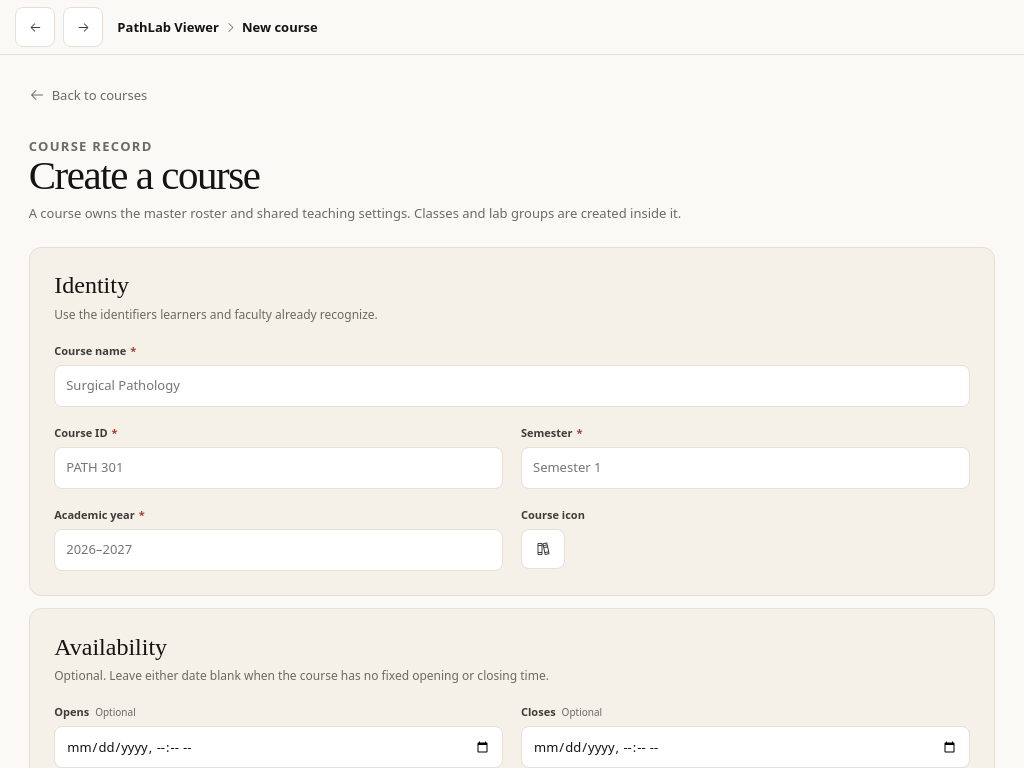
Test case: makes course identity required while keeping availability optional
Click the button named "Course icon: General": (543, 549) [521,529,565,569]
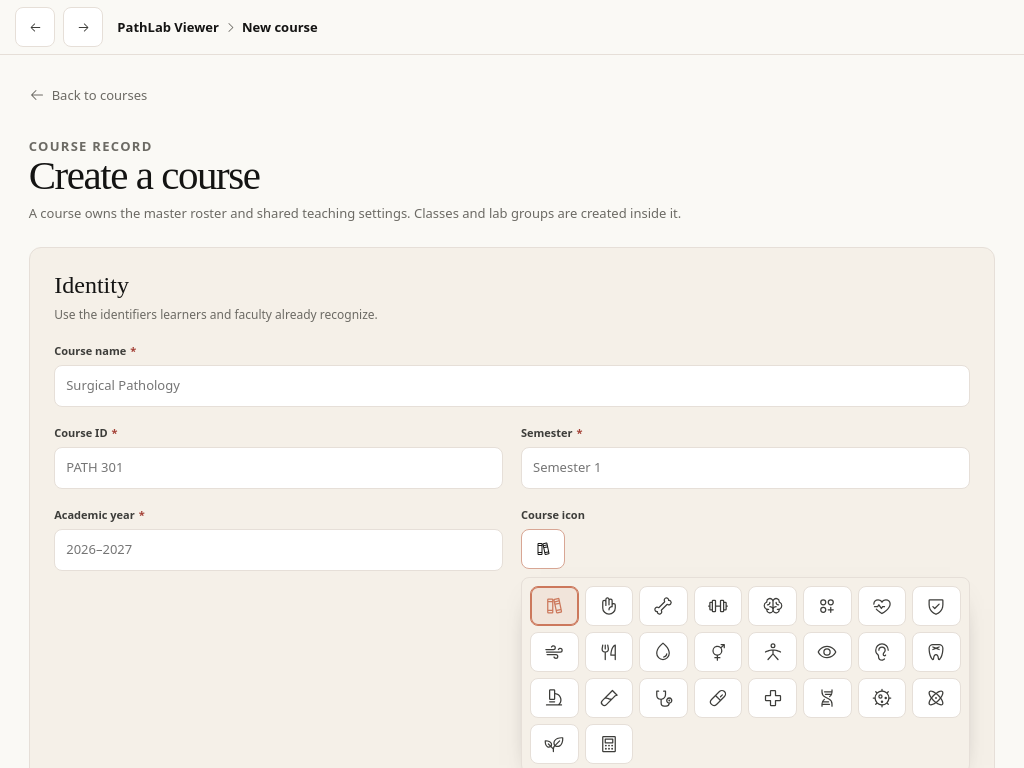
Expected: the number of options is 26
Expected: the option named "Integumentary system" is shown, [585,586,633,626]
Expected: the option named "Skeletal system" is shown, [639,586,688,626]
Click the option named "Microscopy": (554, 698) [530,678,579,718]
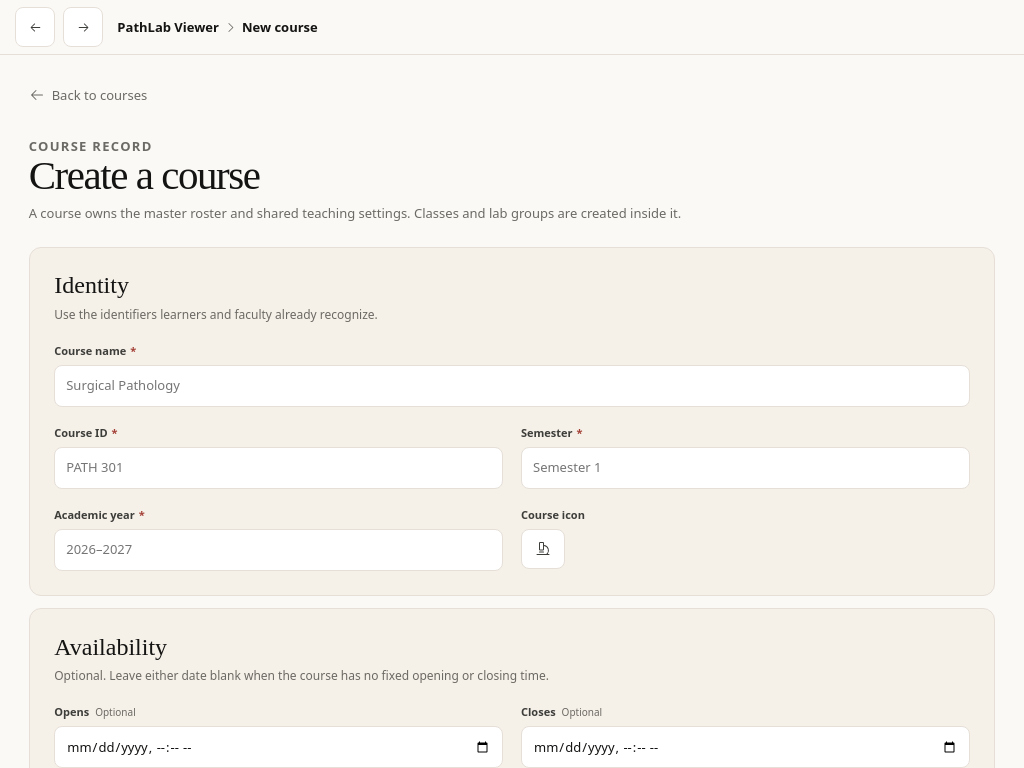
Expected: the button named "Course icon: Microscopy" is collapsed, [521,529,565,569]
